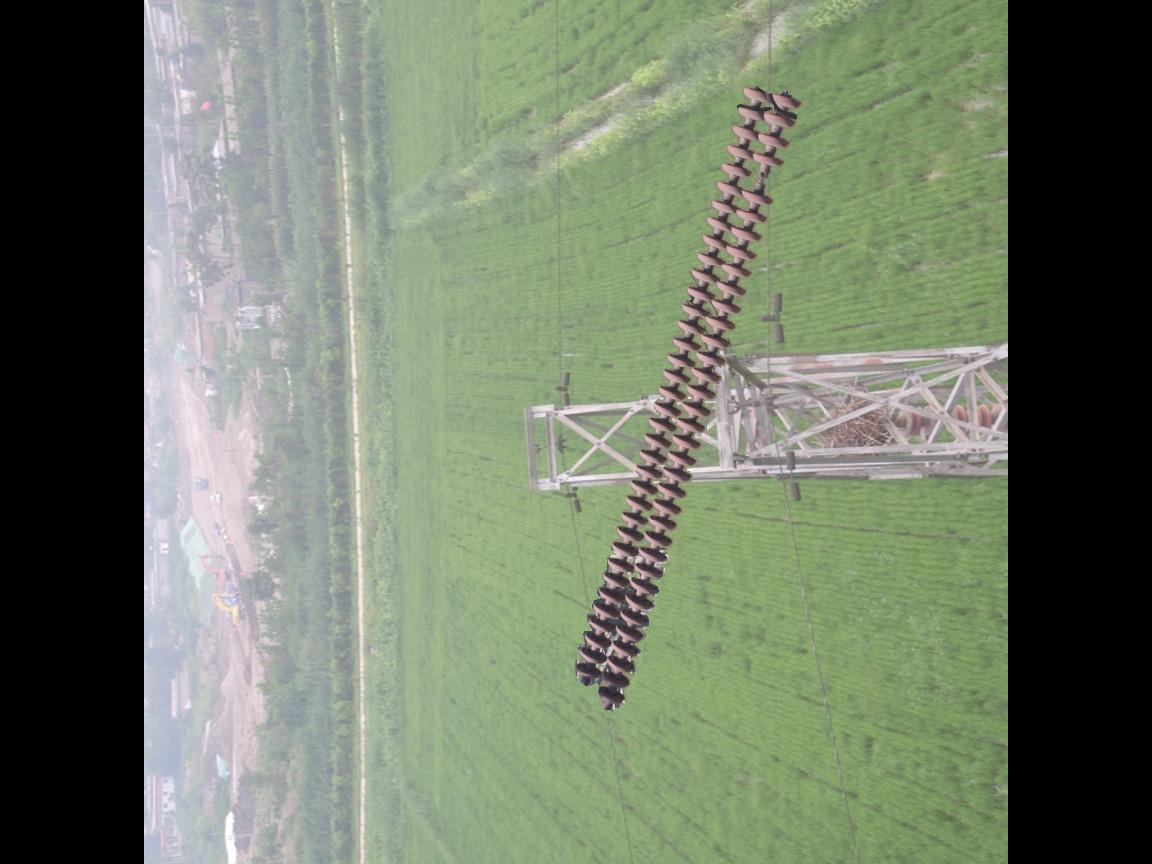insulator: (567, 80, 803, 711)
insulator_stringdrop: (738, 149, 787, 210)
